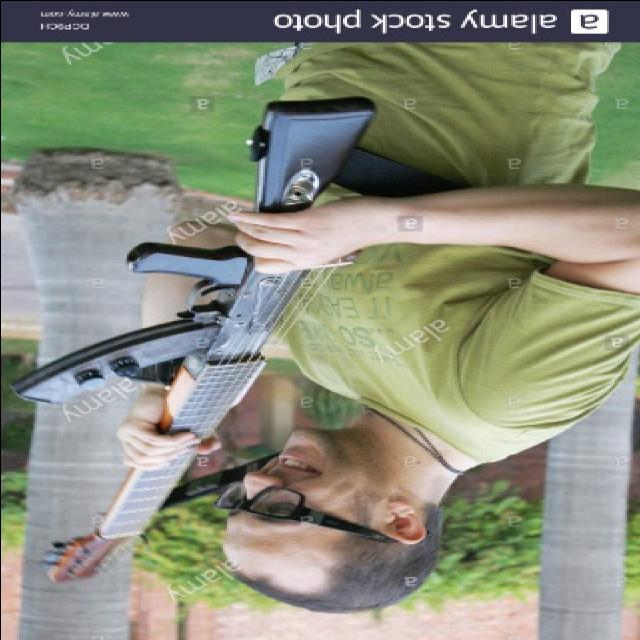rifle: (9, 75, 373, 593)
